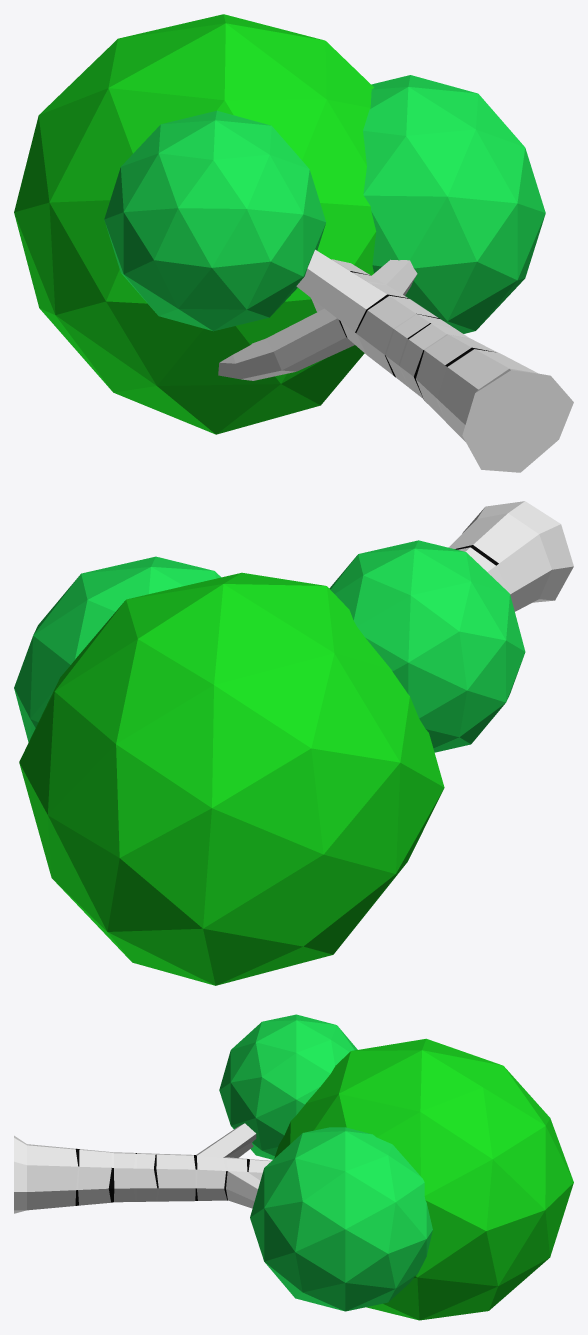
Rendered from BirchTree_2.fbx.
3 renders of one model, top to bottom at view 1: azimuth 30°, elevation 25°; view 2: azimuth 150°, elevation 25°; view 3: azimuth 270°, elevation 25°, orthographic. The views are drawn at different scales.
Visible parts, largest first — view 1: BirchTree_2; view 2: BirchTree_2; view 3: BirchTree_2.
Part boxes in pixels (x1,y1,x2,y2): BirchTree_2: (14,14,573,472); BirchTree_2: (14,501,573,985); BirchTree_2: (14,1014,573,1320).
Bounding box in the file's own units: 364 × 302 × 586.
